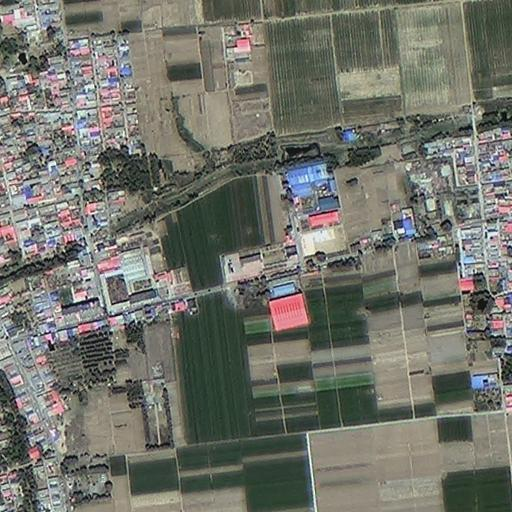school: (221, 242, 299, 282)
